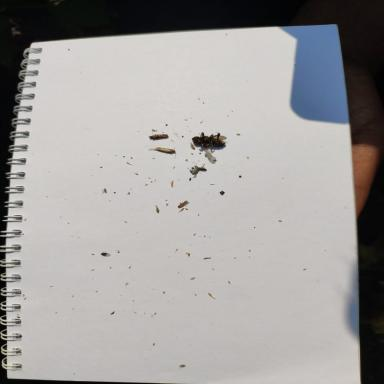pbw: (152, 145, 176, 155), (146, 132, 167, 141)
